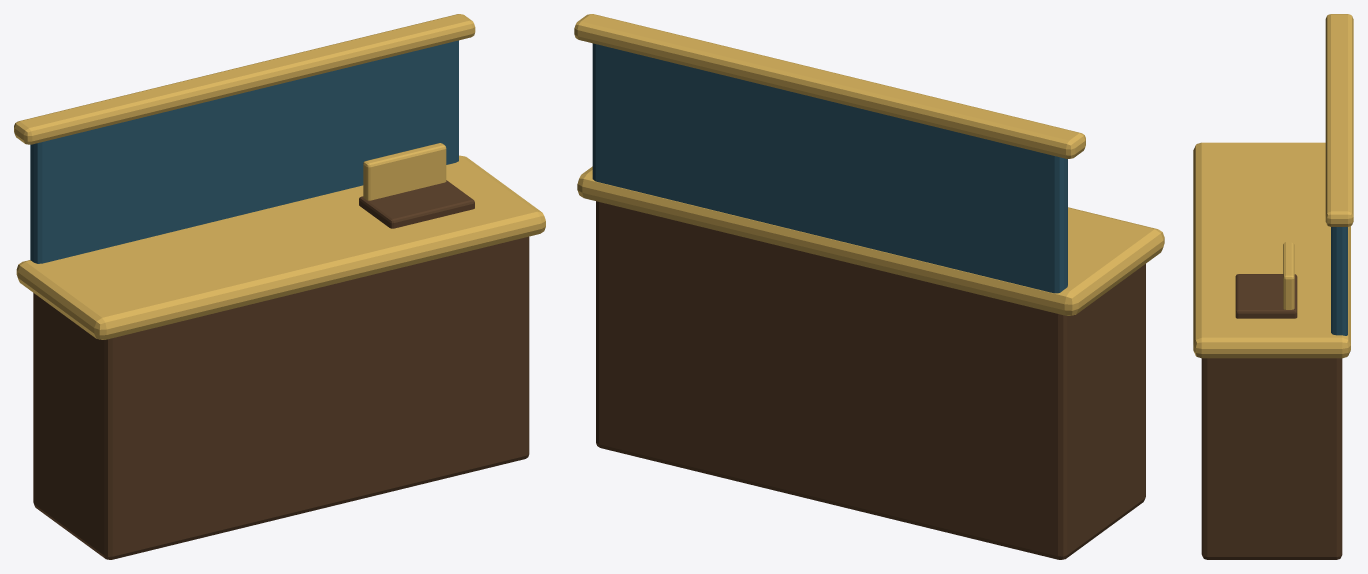
File: bank_booth.glb
3 views of the same model, side by side, from view 1: azimuth 30°, elevation 25°; view 2: azimuth 150°, elevation 25°; view 3: azimuth 270°, elevation 25° (orthographic). The views are drawn at different scales.
Visible parts, largest first — view 1: Cube, Cube.002, Cube.001, Cube.003, Cube.005, Cube.004; view 2: Cube, Cube.002, Cube.001, Cube.003; view 3: Cube, Cube.001, Cube.003, Cube.004, Cube.002, Cube.005.
Part boxes in pixels (x1,y1,x2,y2): Cube: (33,236,529,559); Cube.002: (30,40,458,263); Cube.001: (16,155,545,339); Cube.003: (14,14,475,144); Cube.005: (363,143,446,200); Cube.004: (359,180,474,228); Cube: (596,201,1145,559); Cube.002: (592,43,1067,293); Cube.001: (577,166,1164,315); Cube.003: (574,14,1085,158); Cube: (1201,358,1342,559); Cube.001: (1193,142,1350,358); Cube.003: (1325,14,1353,226); Cube.004: (1235,274,1297,318); Cube.002: (1331,227,1347,335); Cube.005: (1283,242,1294,309).
Bounding box in the file's own units: 1.7 × 1.39 × 0.57.
